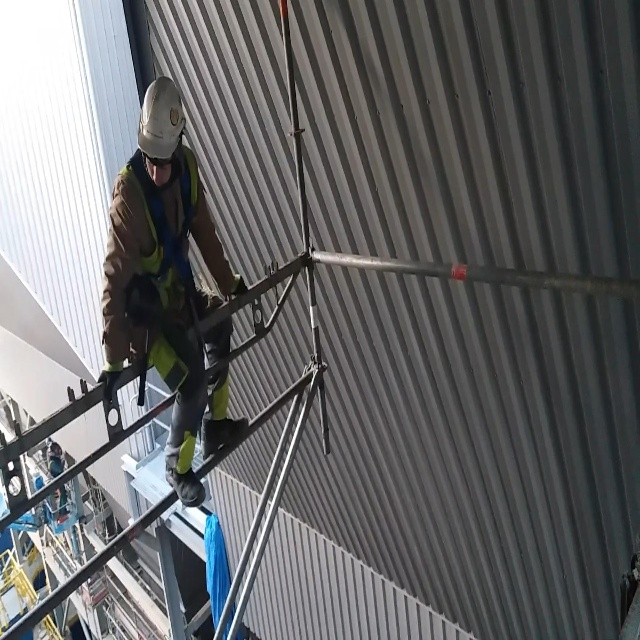Arnes_seguridad: (109, 148, 212, 349)
